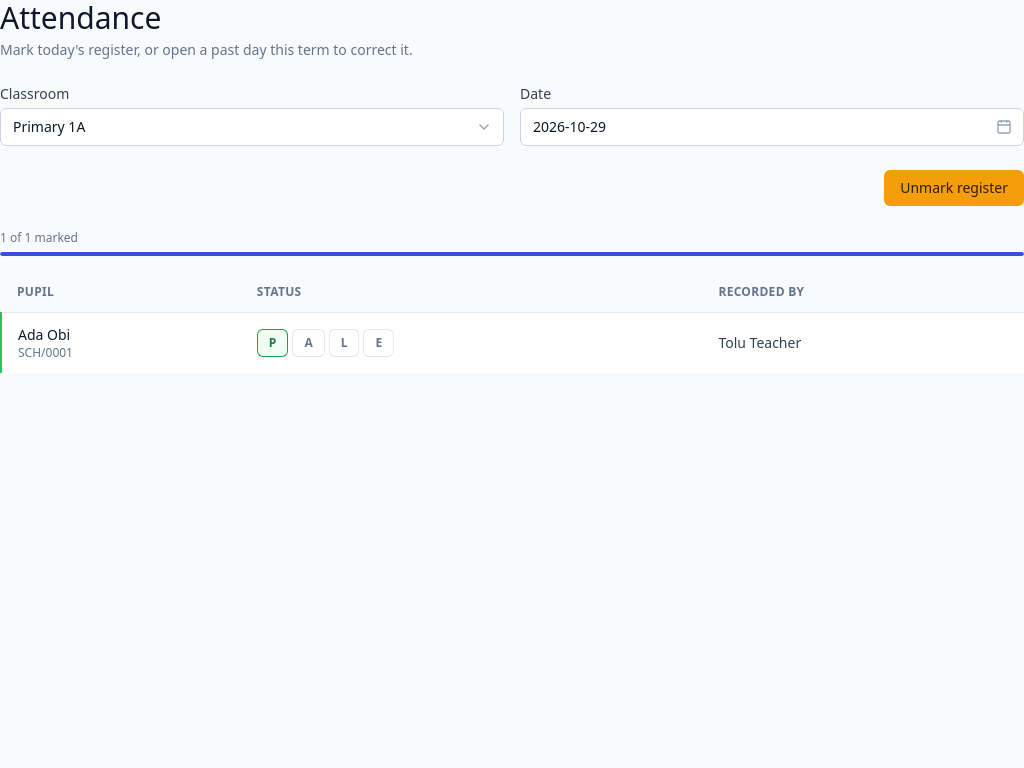
TeacherRegisterPanel › unmarks a saved, editable register after confirmation and reloads it
Click the button "Unmark register" at (954, 188), box [884, 170, 1023, 206]
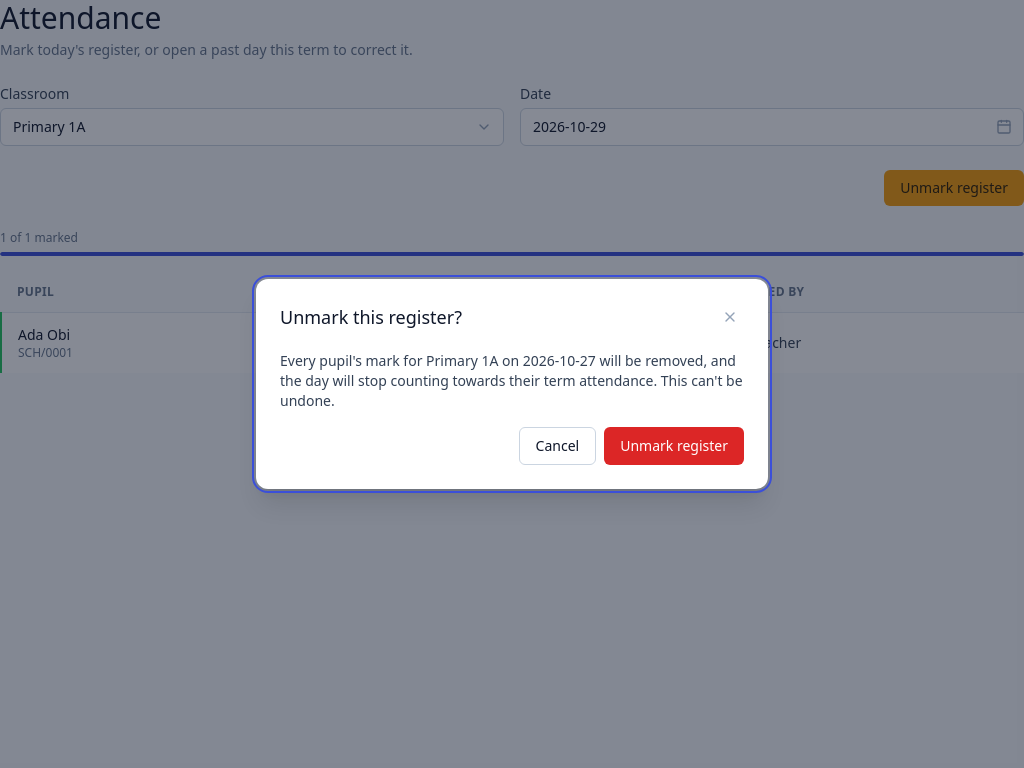
Click the button "Unmark register" at (674, 446), box [604, 427, 744, 465]
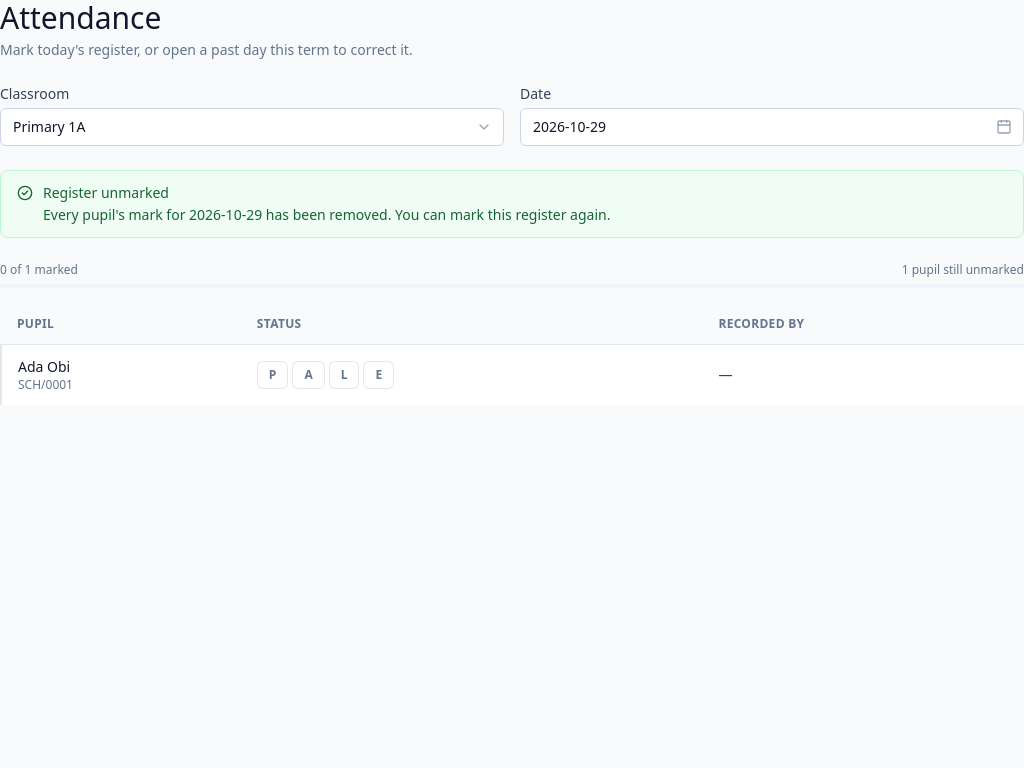
expect the text "Register unmarked" is shown: met, box [43, 183, 169, 202]
expect the button "Unmark register" is gone: met
